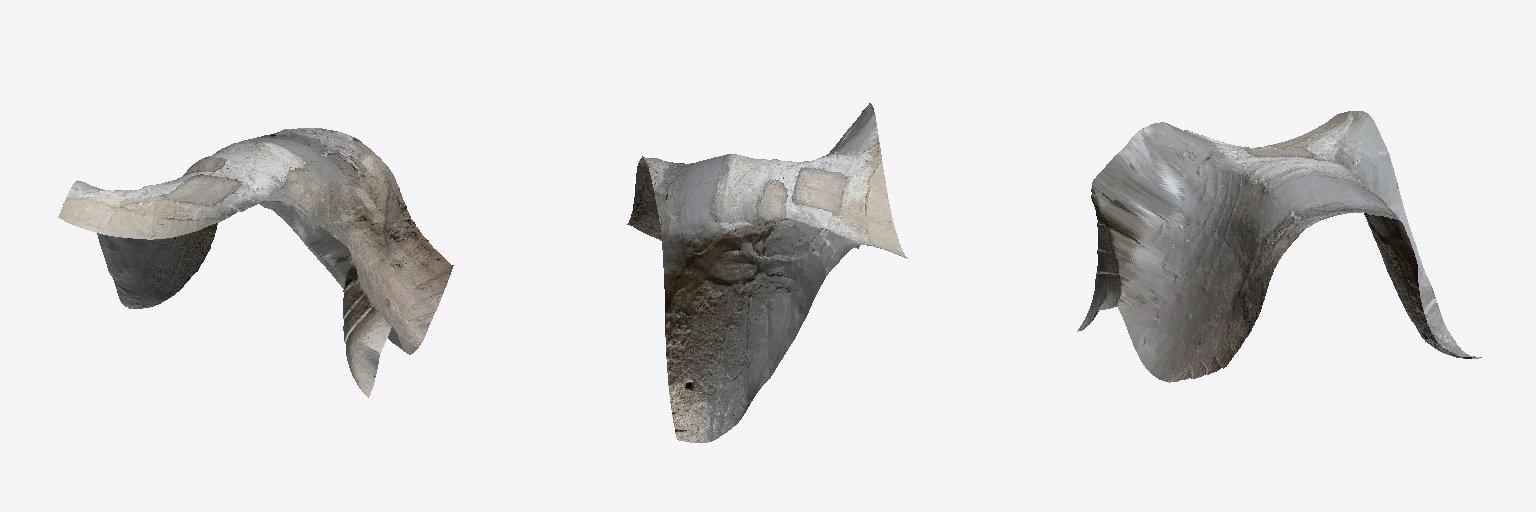
The picture shows the model from 3 angles: view 1: azimuth 30°, elevation 25°; view 2: azimuth 150°, elevation 25°; view 3: azimuth 270°, elevation 25°; orthographic projection.
Parts seen in each view (by area): view 1: texture_0; view 2: texture_0; view 3: texture_0.
Part boxes in pixels (x1,y1,x2,y2): texture_0: (58,128,453,397); texture_0: (627,103,907,442); texture_0: (1077,111,1481,382).
Bounding box in the file's own units: 0.4195 × 0.2647 × 0.436.
Materials: 1 (1 with a texture image).